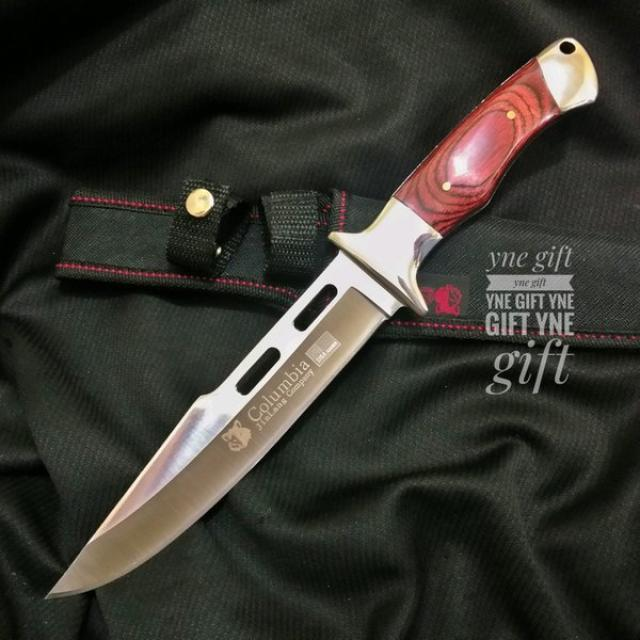Pisau: (26, 29, 612, 616)
